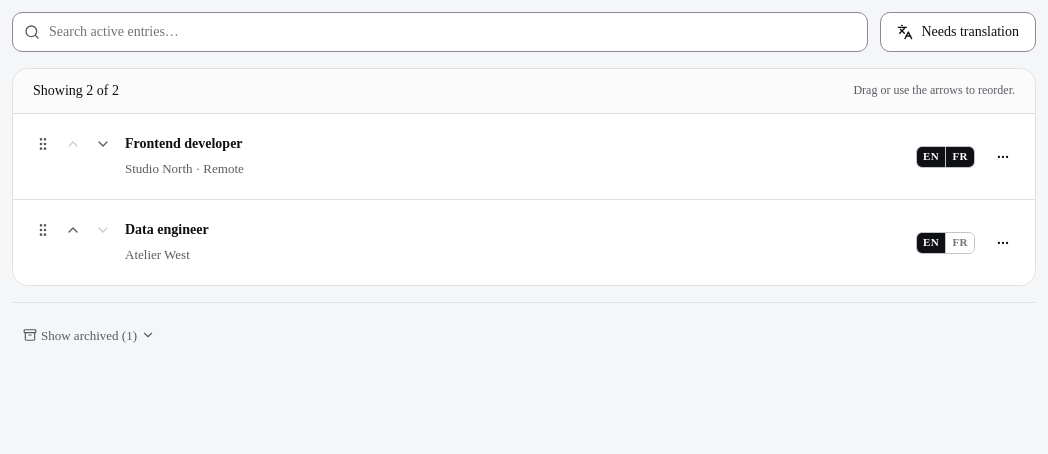
it: career record discovery › combines the translation filter with search and recovers from an empty result
Click the button "Needs translation" at coordinates (958, 32), box [880, 12, 1036, 52]
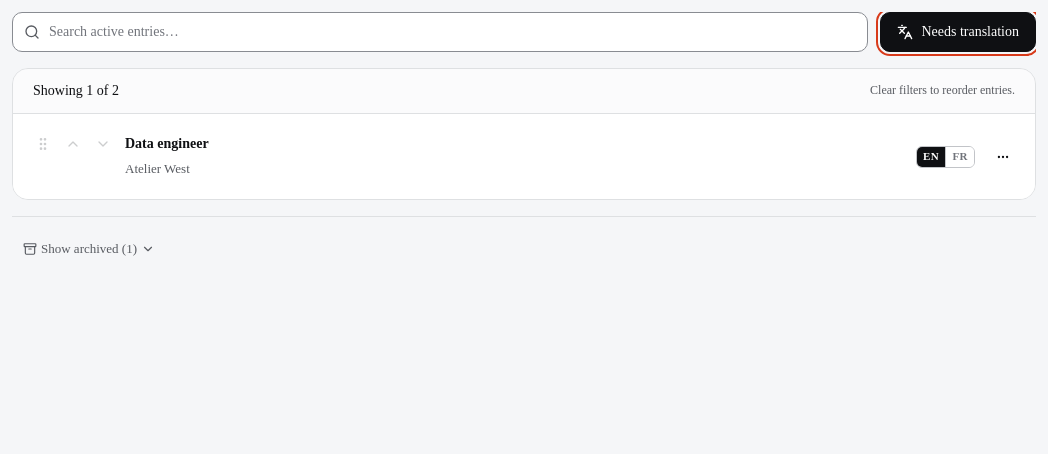
Expected: the link "Data engineer Atelier West" is shown, [125, 136, 209, 176]
Result: the link "Frontend developer" is gone
Type "frontend" into the search field at coordinates (440, 32), box [12, 12, 868, 52]
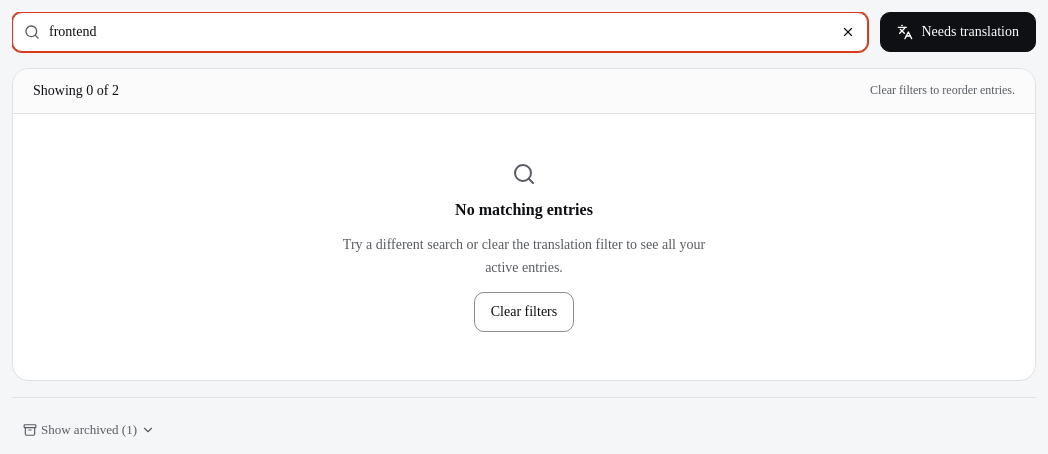
Result: the heading "No matching entries" is shown at [455, 198, 593, 222]
Click the button "Clear filters" at coordinates (524, 312), box [474, 292, 574, 332]
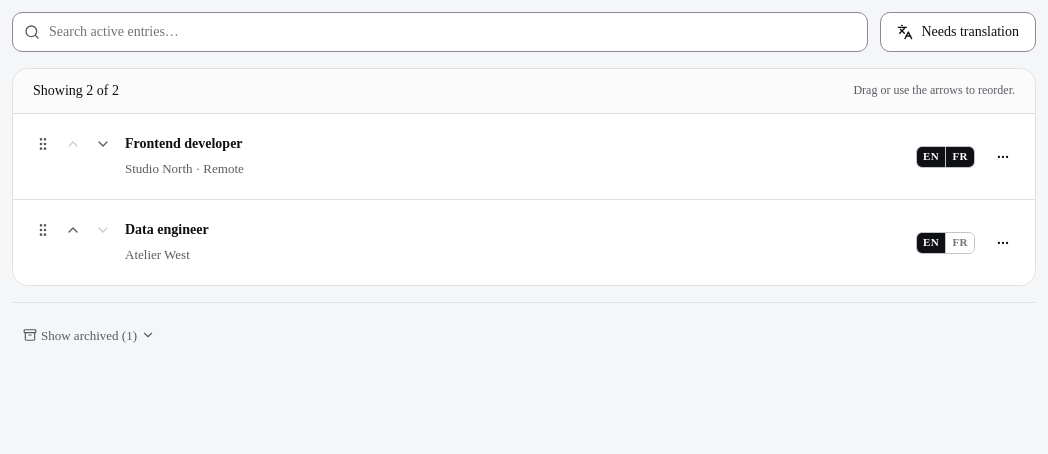
Result: the search field is empty at [12, 12, 868, 52]
Result: the text "Showing 2 of 2" is shown at [33, 81, 119, 101]
